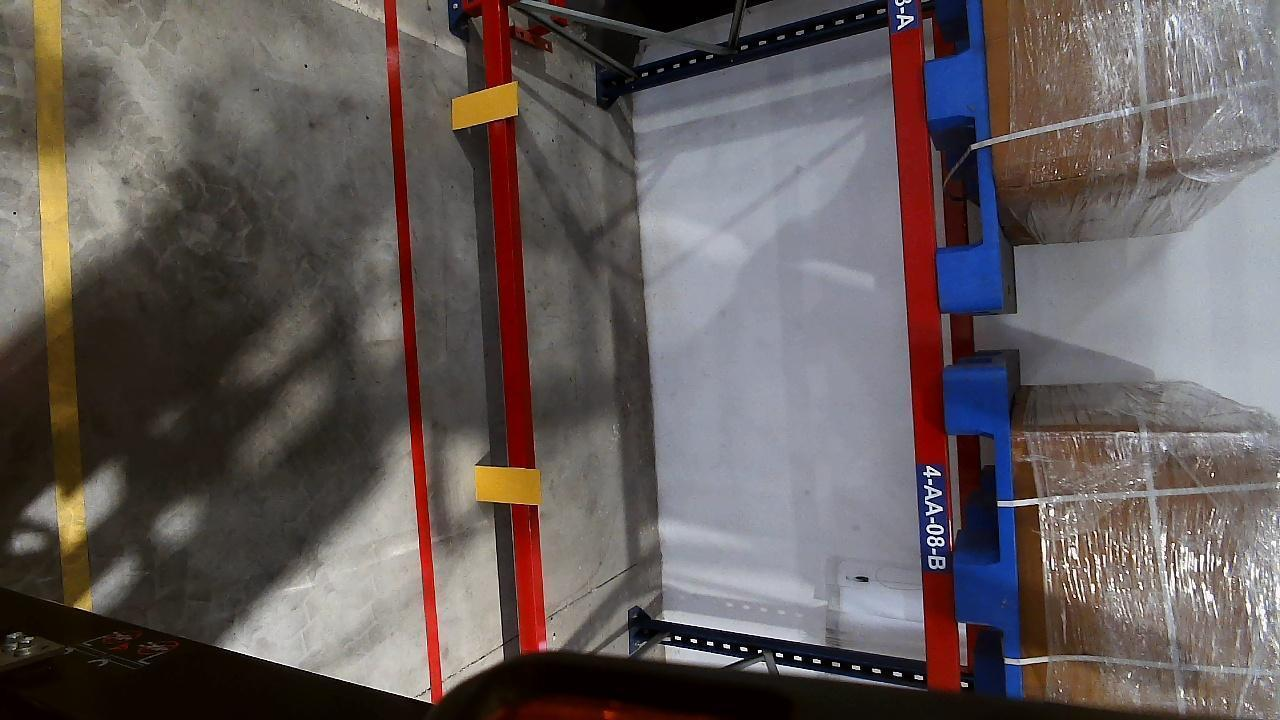red_line: (374, 0, 442, 698)
yellow_line: (28, 0, 86, 602)
